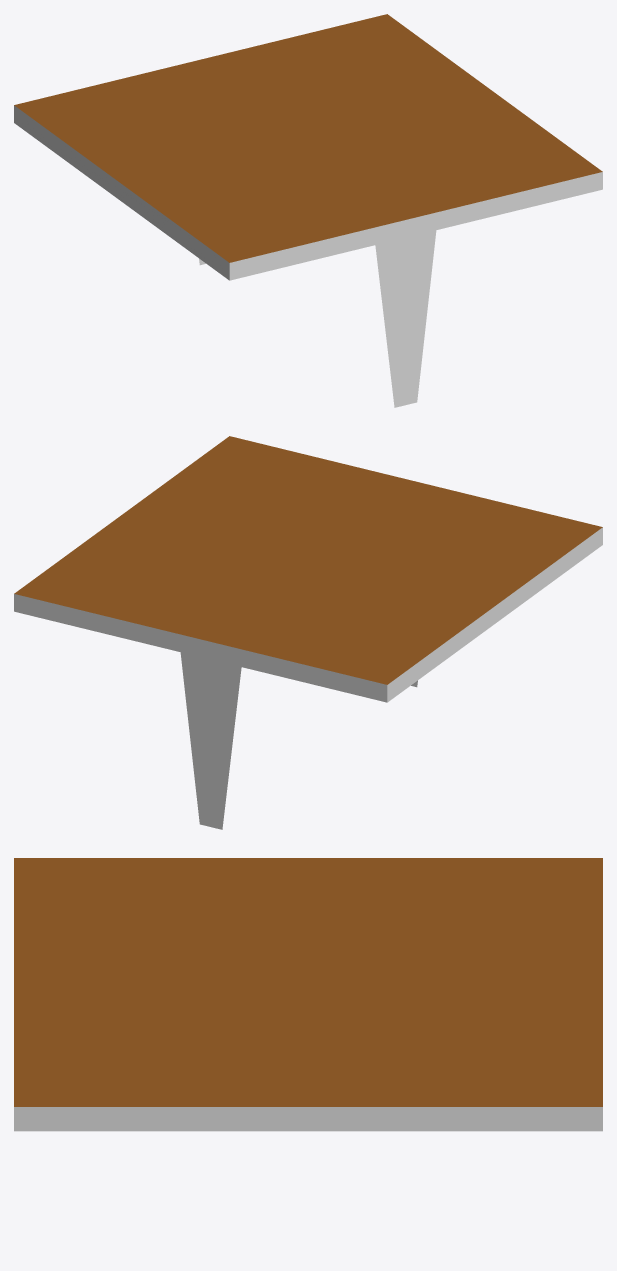
File: DockAStriaghtA.fbx
3 renders of one model, top to bottom at view 1: azimuth 30°, elevation 25°; view 2: azimuth 150°, elevation 25°; view 3: azimuth 270°, elevation 25°, orthographic. The views are drawn at different scales.
Parts seen in each view (by area): view 1: DockAStriaghtA; view 2: DockAStriaghtA; view 3: DockAStriaghtA.
Boxes of the visible parts, left/top/right/bottom form: DockAStriaghtA: left=14, top=14, right=602, bottom=407; DockAStriaghtA: left=14, top=436, right=602, bottom=829; DockAStriaghtA: left=14, top=858, right=602, bottom=1131.
Size of the model in its own units: 550 by 275 by 550.
1 material, 1 textured.
